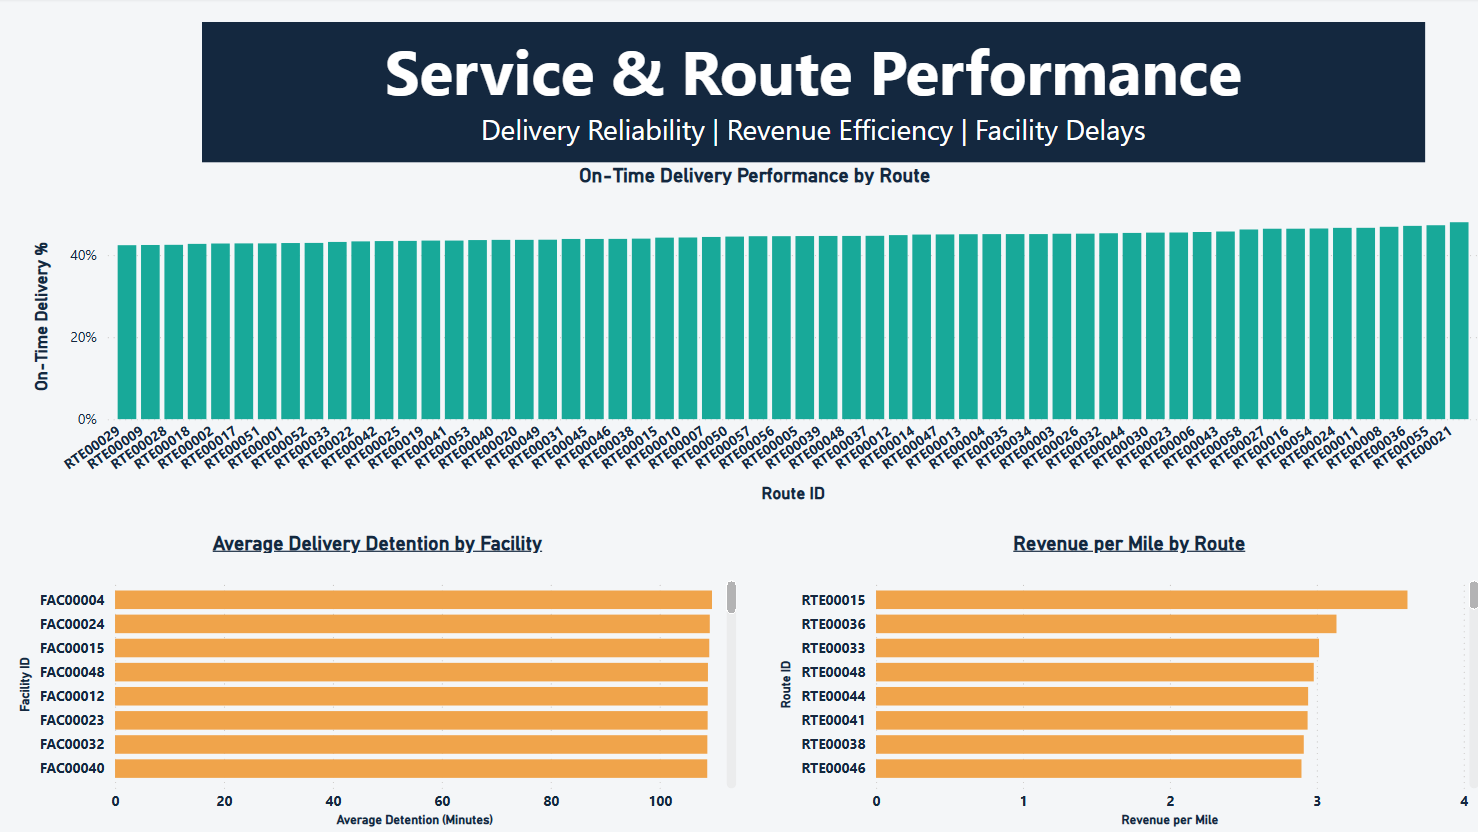

Layout of this report page (visuals, bound fields, positions):
{"tool":"powerbi","page":{"name":"Service & Route Performance","canvas":[1280,720],"ordinal":1},"visuals":[{"type":"clusteredColumnChart","title":"On-Time Delivery Performance by Route","fields":{"Category":["logistics_analytics routes.route_id"],"Y":["logistics_analytics delivery_events.On-Time Delivery %"]},"box":[22.8,142.2,1257.3,297.9],"z":0},{"type":"clusteredBarChart","title":"Revenue per Mile by Route","fields":{"Category":["logistics_analytics routes.route_id"],"Y":["logistics_analytics trips.Revenue per Mile"]},"box":[667.3,460.1,612.9,259.9],"z":1000},{"type":"clusteredBarChart","title":"Average Delivery Detention by Facility","fields":{"Category":["logistics_analytics facilities.facility_id"],"Y":["logistics_analytics delivery_events.Average Detention (Minutes)"]},"box":[11.4,460.1,628.7,259.9],"z":2000},{"type":"textbox","box":[173.9,21.1,1054.5,121.2],"z":3000}]}

Visuals, with their boxes in screenshot pixels (x1, y1, x2, y2), scaled from the page's 1280x720 canvas onto the 1478x832 screenshot:
"On-Time Delivery Performance by Route" clusteredColumnChart: bbox(26, 164, 1477, 509)
"Revenue per Mile by Route" clusteredBarChart: bbox(771, 532, 1477, 831)
"Average Delivery Detention by Facility" clusteredBarChart: bbox(13, 532, 739, 831)
textbox: bbox(201, 24, 1418, 164)
